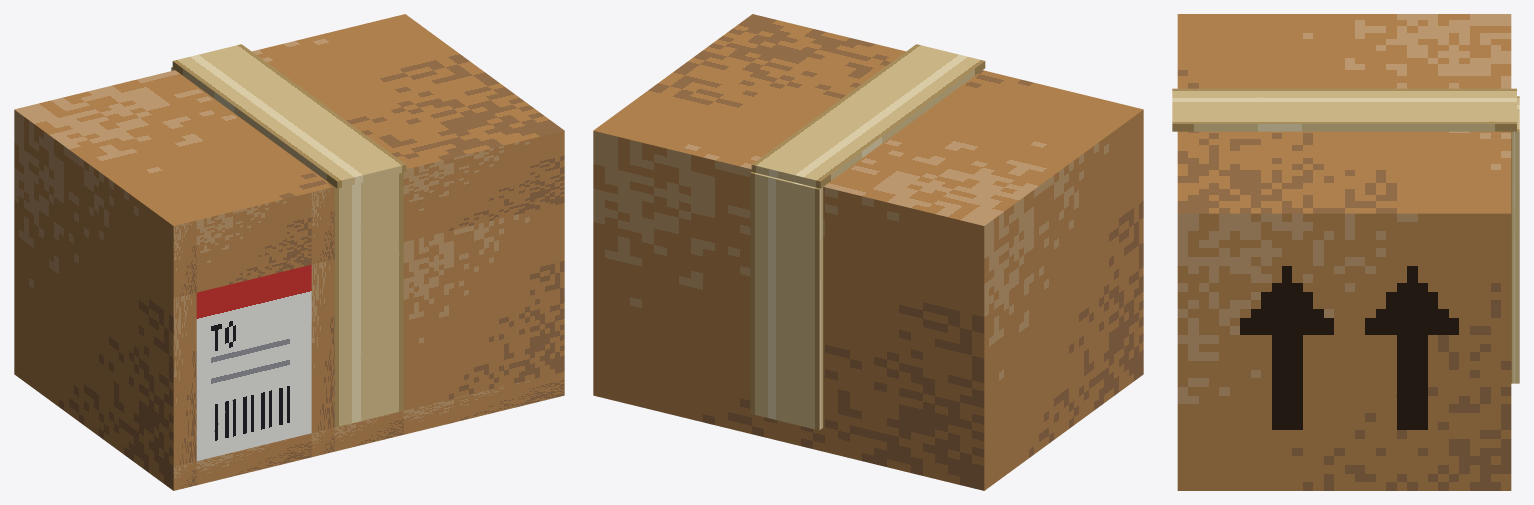
The model's file is moreB-parcelBox.glb.
3 views of the same model, side by side, from view 1: azimuth 30°, elevation 25°; view 2: azimuth 150°, elevation 25°; view 3: azimuth 270°, elevation 25° (orthographic). The views are drawn at different scales.
Parts seen in each view (by area): view 1: moreB.parcelBox; view 2: moreB.parcelBox; view 3: moreB.parcelBox.
Part boxes in pixels (<box>): moreB.parcelBox: <box>14,14,564,490</box>; moreB.parcelBox: <box>593,14,1143,490</box>; moreB.parcelBox: <box>1172,14,1519,490</box>.
Bounding box in the file's own units: 1.43 × 0.9524 × 1.05.
Materials: 4 (4 with a texture image).
